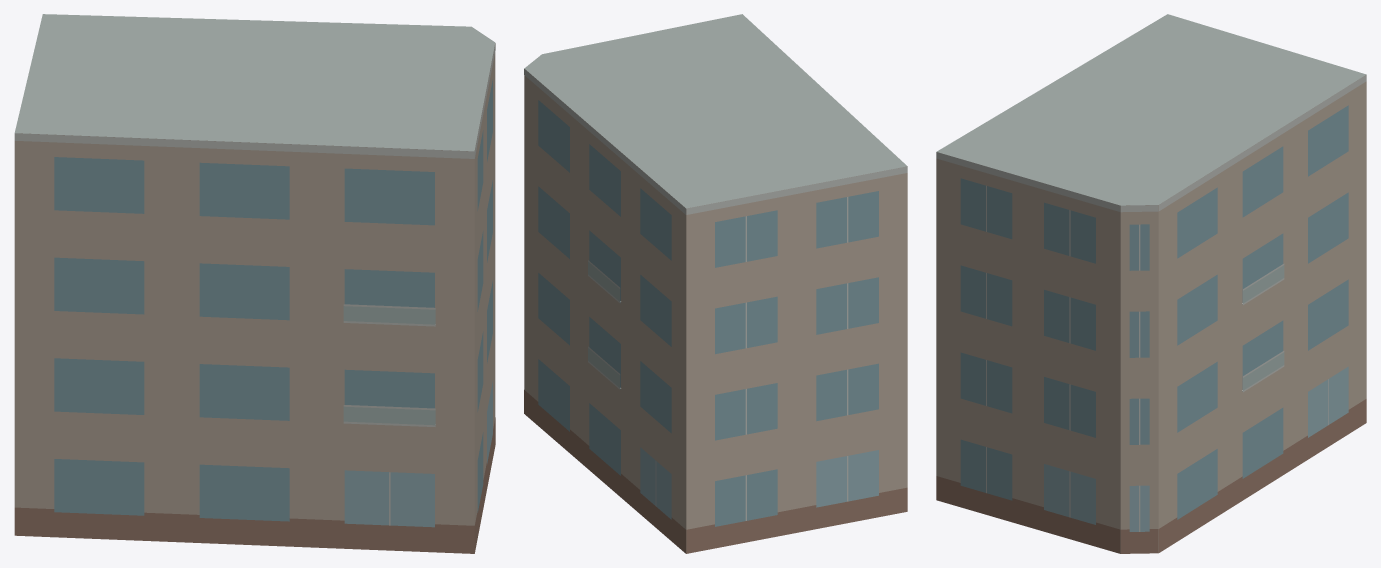
File: survey-upis-32725111.glb
3 views of the same model, side by side, from view 1: azimuth 30°, elevation 25°; view 2: azimuth 150°, elevation 25°; view 3: azimuth 270°, elevation 25° (orthographic). The views are drawn at different scales.
Visible parts, largest first — view 1: survey-upis-32725111.tmp; view 2: survey-upis-32725111.tmp; view 3: survey-upis-32725111.tmp.
Part boxes in pixels (bbox=[...]): survey-upis-32725111.tmp: bbox=[14, 14, 495, 553]; survey-upis-32725111.tmp: bbox=[524, 14, 907, 553]; survey-upis-32725111.tmp: bbox=[936, 14, 1366, 553].
Bounding box in the file's own units: 15.1 × 12.8 × 14.34.
